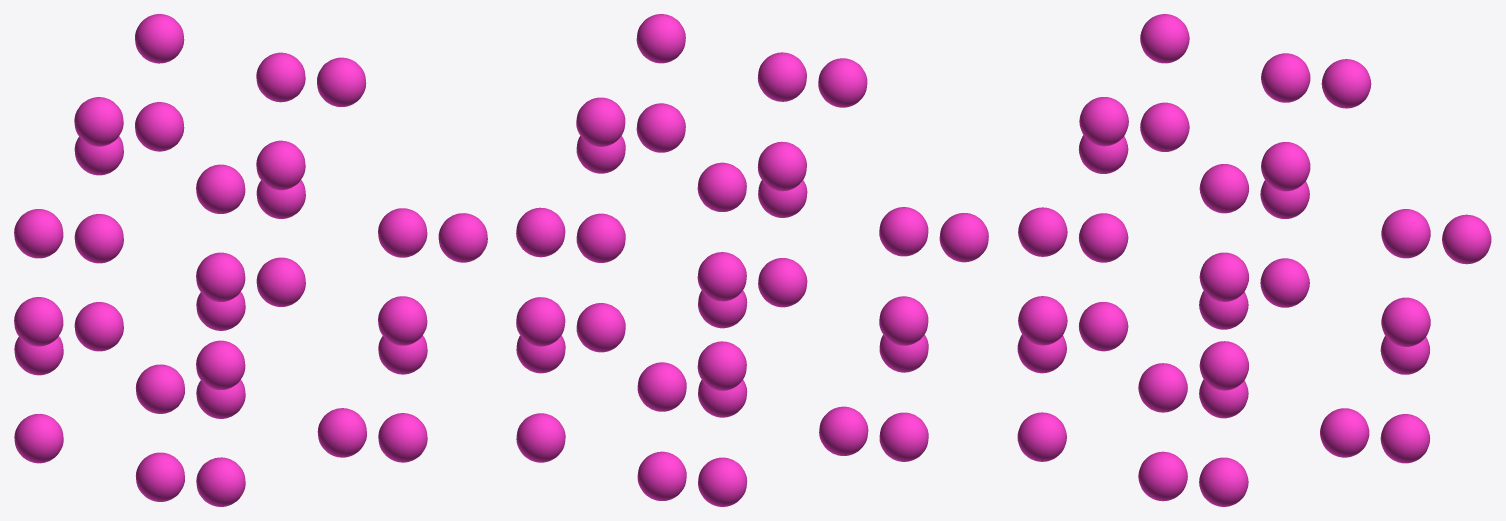
3 renders of one model, left to right at view 1: azimuth 30°, elevation 25°; view 2: azimuth 150°, elevation 25°; view 3: azimuth 270°, elevation 25°, orthographic.
Visible parts, largest first — view 1: Sphere _nine3, Sphere one_two2, Sphere _six_seven, Sphere _five_twelve, Sphere two_three2, Sphere four2, Sphere _six1, Sphere two_three_four_six_eight_nine, Sphere _eight, Sphere _five_eleven, Sphere one_three, Sphere _seven5 (+17 smaller); view 2: Sphere _eleven3, Sphere _six_seven, Sphere _nine_ten, Sphere two, Sphere _seven5, Sphere _six_eight, Sphere _five_eleven, Sphere _five_twelve, Sphere three, Sphere four_ten, Sphere one_three_four_five_ten_eleven, one7 Sphere (+17 smaller); view 3: Sphere _six_eight, Sphere _seven_eight1, Sphere four_nine, Sphere _five_eleven, Sphere two, Sphere one_two2, Sphere _ten, Sphere _eleven3, Sphere three, Sphere _nine3, Sphere one_three, Sphere _nine_ten (+17 smaller).
Part boxes in pixels (left/top/right/bottom): Sphere _nine3: left=378, top=413, right=427, bottom=462; Sphere one_two2: left=74, top=97, right=123, bottom=146; Sphere _six_seven: left=14, top=297, right=63, bottom=346; Sphere _five_twelve: left=14, top=209, right=63, bottom=258; Sphere two_three2: left=256, top=140, right=305, bottom=190; Sphere four2: left=438, top=213, right=487, bottom=262; Sphere _six1: left=74, top=302, right=123, bottom=351; Sphere two_three_four_six_eight_nine: left=256, top=257, right=305, bottom=306; Sphere _eight: left=196, top=457, right=245, bottom=506; Sphere _five_eleven: left=196, top=164, right=245, bottom=213; Sphere one_three: left=256, top=52, right=305, bottom=102; Sphere _seven5: left=14, top=414, right=63, bottom=463; Sphere _eleven3: left=516, top=413, right=565, bottom=462; Sphere _six_seven: left=879, top=296, right=928, bottom=345; Sphere _nine_ten: left=637, top=362, right=686, bottom=411; Sphere two: left=818, top=58, right=867, bottom=107; Sphere _seven5: left=879, top=412, right=928, bottom=461; Sphere _six_eight: left=879, top=207, right=928, bottom=256; Sphere _five_eleven: left=516, top=297, right=565, bottom=346; Sphere _five_twelve: left=697, top=341, right=746, bottom=390; Sphere three: left=636, top=14, right=685, bottom=63; Sphere four_ten: left=516, top=207, right=565, bottom=257; Sphere one_three_four_five_ten_eleven: left=576, top=213, right=625, bottom=262; one7 Sphere: left=636, top=103, right=685, bottom=152; Sphere _six_eight: left=1018, top=207, right=1067, bottom=256; Sphere _seven_eight1: left=1138, top=363, right=1187, bottom=412; Sphere four_nine: left=1018, top=296, right=1067, bottom=345; Sphere _five_eleven: left=1381, top=297, right=1430, bottom=346; Sphere two: left=1140, top=14, right=1189, bottom=63; Sphere one_two2: left=1261, top=53, right=1310, bottom=102; Sphere _ten: left=1199, top=457, right=1248, bottom=506; Sphere _eleven3: left=1380, top=414, right=1430, bottom=463; Sphere three: left=1140, top=102, right=1189, bottom=151; Sphere _nine3: left=1017, top=412, right=1066, bottom=461; Sphere one_three: left=1261, top=142, right=1310, bottom=191; Sphere _nine_ten: left=1138, top=451, right=1187, bottom=501.
Bounding box in the file's own units: 72.42 × 67.27 × 73.21.
